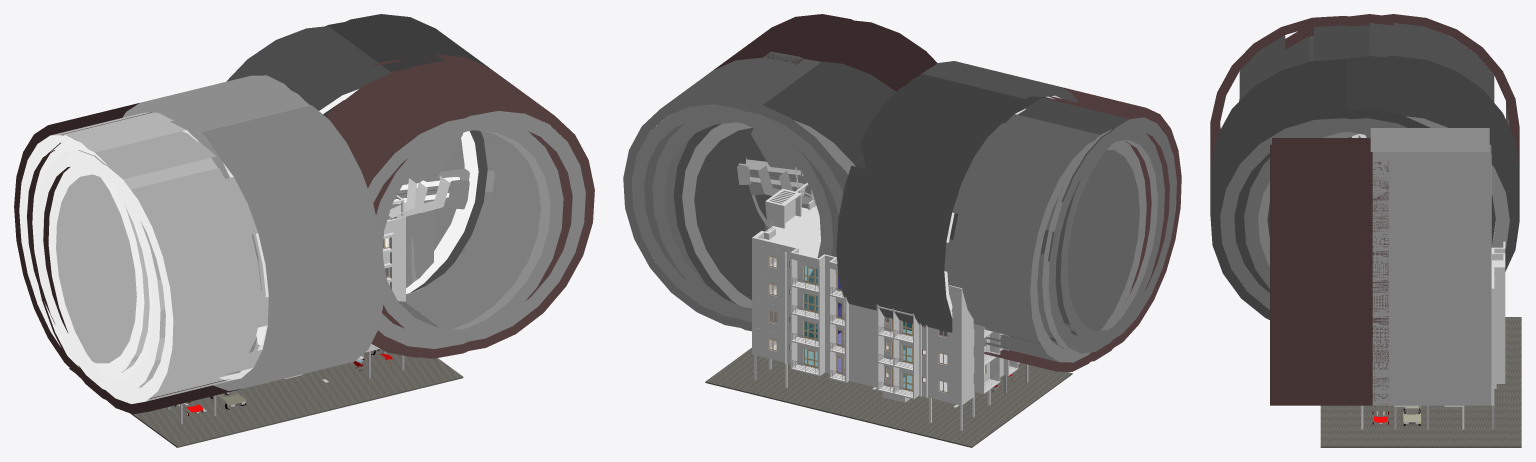
The model's file is building_1.glb.
3 renders of one model, left to right at view 1: azimuth 30°, elevation 25°; view 2: azimuth 150°, elevation 25°; view 3: azimuth 270°, elevation 25°, orthographic. The views are drawn at different scales.
Parts seen in each view (by area): view 1: Audi_A3_modified_7042 (×5), Audi A3.dwg.Brembo_Lingfenfelter_1 (×6), Audi A3.dwg.Caliper_2, site, Audi A3.dwg.Caliper_3; view 2: Audi A3.dwg.Brembo_Lingfenfelter_1 (×6), Audi_A3_modified_7042 (×5), Audi A3.dwg.Caliper_3, site, 9" (×10), Audi A3.dwg.Caliper_2, Generic - 12" (×4); view 3: Audi_A3_modified_7042 (×6), Audi A3.dwg.Caliper_3, Audi A3.dwg.Brembo_Lingfenfelter_1 (×6), site, Audi A3.dwg.Caliper_2, covering.
Part boxes in pixels (left/top/right/bottom): Audi_A3_modified_7042 (×5): left=30, top=22, right=594, bottom=415; Audi A3.dwg.Brembo_Lingfenfelter_1 (×6): left=14, top=26, right=550, bottom=397; Audi A3.dwg.Caliper_2: left=326, top=68, right=572, bottom=358; site: left=69, top=349, right=463, bottom=447; Audi A3.dwg.Caliper_3: left=345, top=14, right=489, bottom=364; Audi A3.dwg.Brembo_Lingfenfelter_1 (×6): left=673, top=20, right=1157, bottom=371; Audi_A3_modified_7042 (×5): left=644, top=14, right=1181, bottom=380; Audi A3.dwg.Caliper_3: left=623, top=51, right=838, bottom=327; site: left=705, top=348, right=1072, bottom=447; 9" (×10): left=755, top=245, right=959, bottom=405; Audi A3.dwg.Caliper_2: left=805, top=22, right=932, bottom=91; Generic - 12" (×4): left=763, top=206, right=1019, bottom=398; Audi_A3_modified_7042 (×6): left=1210, top=16, right=1491, bottom=424; Audi A3.dwg.Caliper_3: left=1372, top=161, right=1491, bottom=424; Audi A3.dwg.Brembo_Lingfenfelter_1 (×6): left=1254, top=14, right=1519, bottom=271; site: left=1320, top=317, right=1521, bottom=447; Audi A3.dwg.Caliper_2: left=1270, top=144, right=1388, bottom=414; covering: left=1491, top=288, right=1494, bottom=405.
Bounding box in the file's own units: 53 × 33.83 × 34.25.
49 materials, 1 textured.
